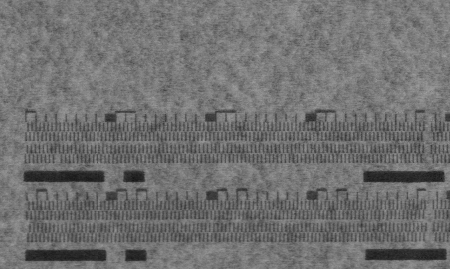Broken hole: (52, 153, 64, 166)
